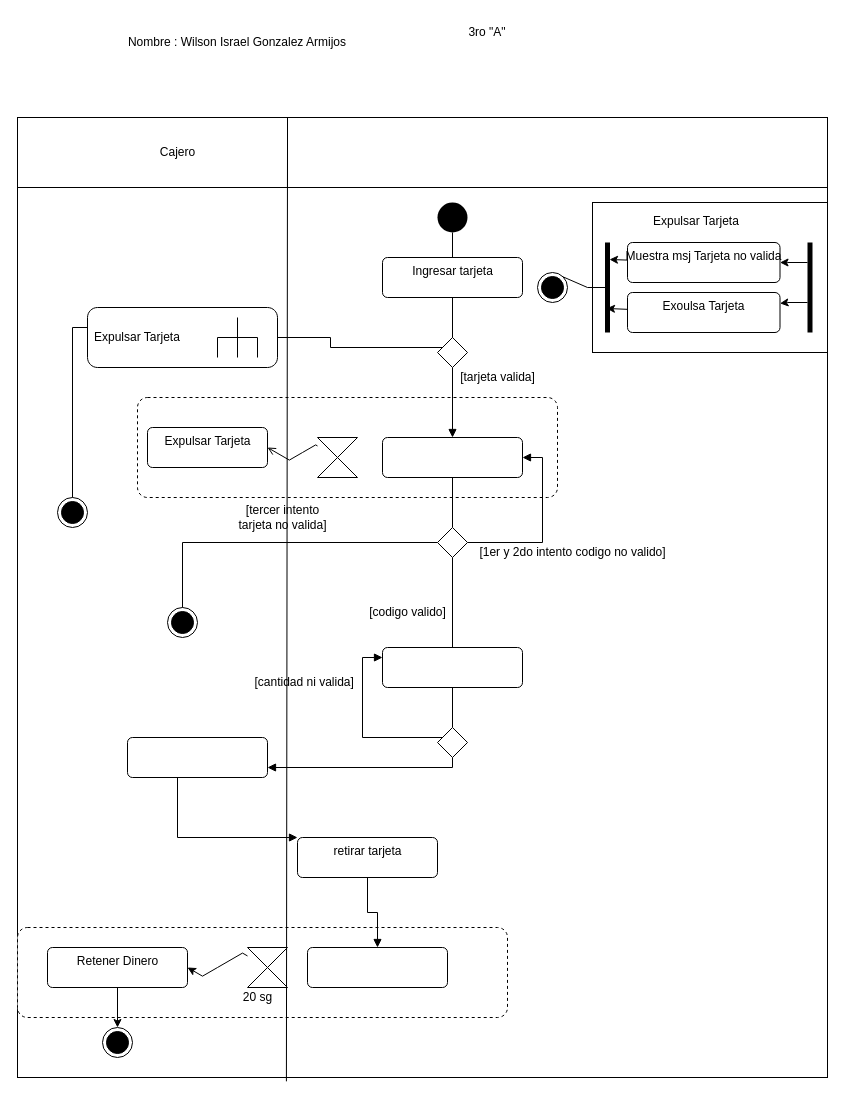
This 845x1100 diagram has some shape labels left out. Here are the shapes that lost their labels. From the top down, the box of each, then its label:
(286, 116, 828, 188): Cliente
(382, 436, 522, 478): Ingresar codigo
(382, 646, 522, 688): Introduce cantidad
(126, 736, 268, 778): Arroja dinero
(306, 946, 448, 988): retirar dinero
